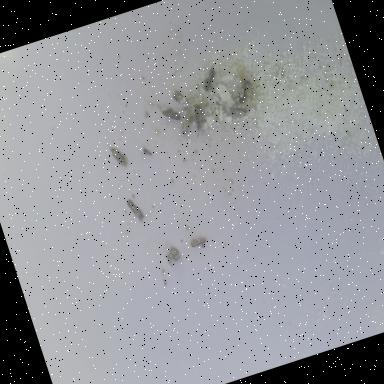pbw: (197, 62, 222, 92), (188, 103, 208, 138), (125, 196, 146, 225), (176, 112, 198, 138), (108, 142, 128, 170), (158, 104, 182, 126), (224, 102, 248, 123), (171, 87, 190, 110), (186, 232, 210, 249), (234, 82, 252, 104), (191, 98, 210, 111)
